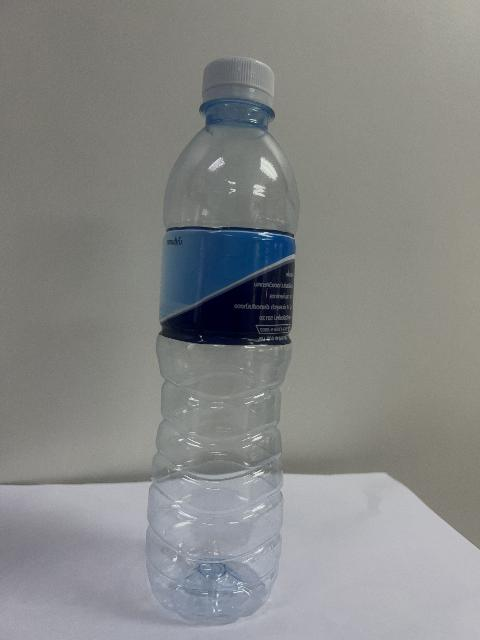bottle: (146, 58, 297, 623)
